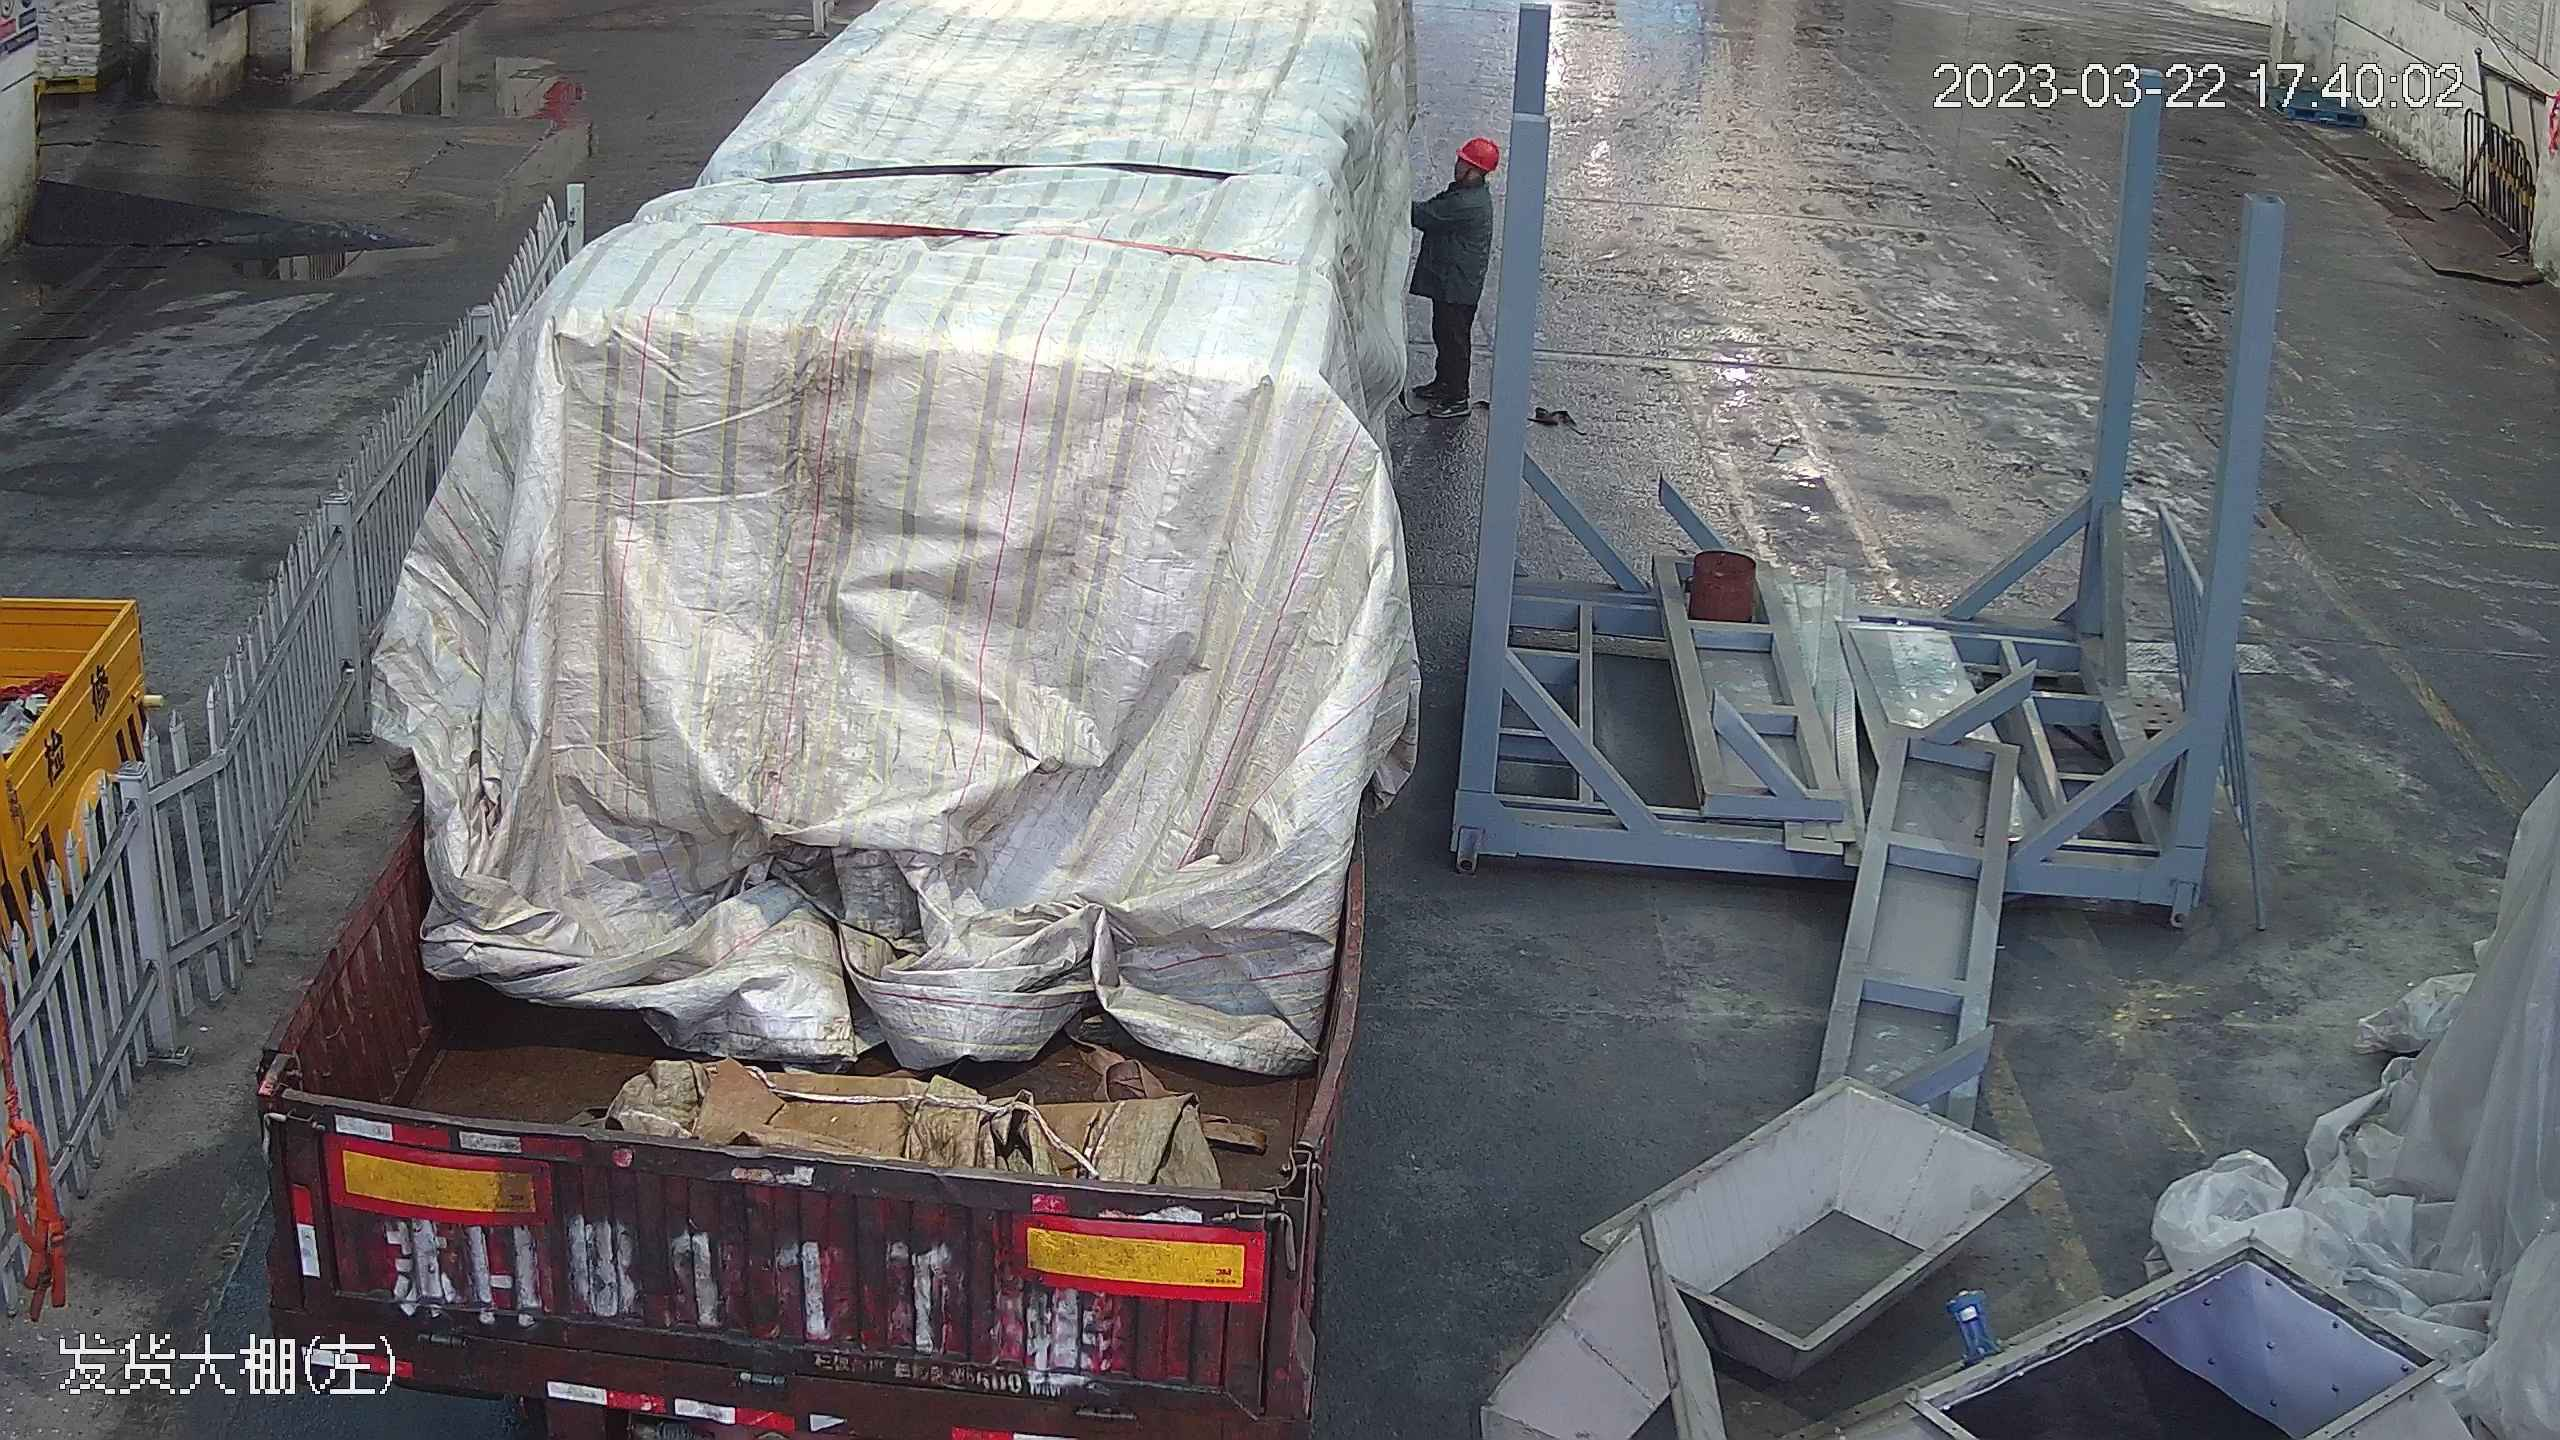head: (1418, 136, 1502, 224)
helmet: (1456, 135, 1503, 170)
people: (1402, 138, 1500, 421)
truck: (253, 0, 1429, 1440)
